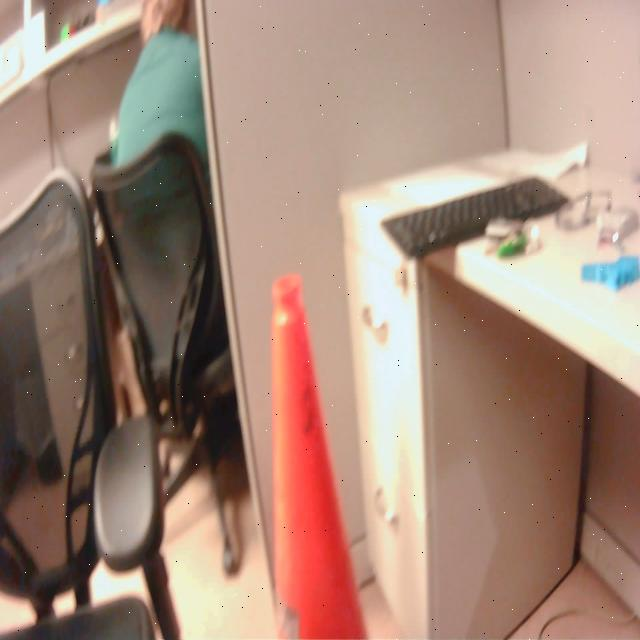traffic cone: (262, 263, 385, 640)
